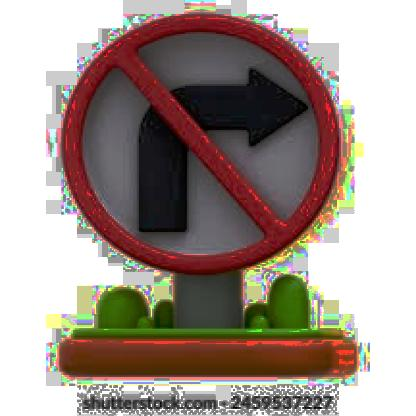No right turn: (53, 4, 343, 279)
